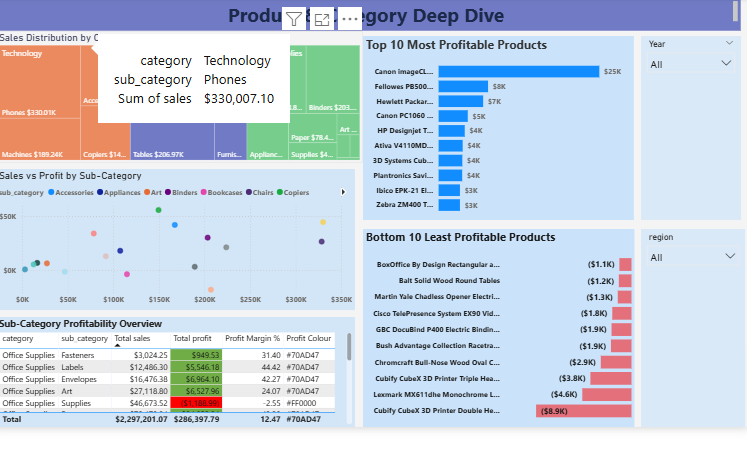

Layout of this report page (visuals, bound fields, positions):
{"tool":"powerbi","page":{"name":"Product & Category Analysis","canvas":[1280,720],"ordinal":1},"visuals":[{"type":"textbox","box":[13,0,1251.4,54.7],"z":0},{"type":"treemap","title":"Sales Distribution by Category & Sub-Category","fields":{"Group":["Superstore_cleaned.category"],"Details":["Superstore_cleaned.sub_category"],"Values":["Sum(Superstore_cleaned.sales)"]},"box":[13,54.7,616.3,221.8],"z":1000},{"type":"clusteredBarChart","title":"Top 10 Most Profitable Products","fields":{"Category":["Superstore_cleaned.product_name"],"Y":["Sum(Superstore_cleaned.profit)"]},"box":[629.9,63.8,455.2,309.1],"z":2000},{"type":"clusteredBarChart","title":"Bottom 10 Least Profitable Products","fields":{"Category":["Superstore_cleaned.product_name"],"Y":["Sum(Superstore_cleaned.profit)"]},"box":[629.3,387.4,456.5,332.6],"z":3000},{"type":"scatterChart","title":"Sales vs Profit by Sub-Category","fields":{"X":["Sum(Superstore_cleaned.sales)"],"Y":["Sum(Superstore_cleaned.profit)"],"Category":["Superstore_cleaned.category"],"Series":["Superstore_cleaned.sub_category"]},"box":[13.4,287.2,603,236.9],"z":4000},{"type":"tableEx","title":"Sub-Category Profitability Overview","fields":{"Values":["Superstore_cleaned.category","Superstore_cleaned.sub_category","Sum(Superstore_cleaned.sales)","Sum(Superstore_cleaned.profit)","Superstore_cleaned.Profit Margin %","Superstore_cleaned.Profit Colour"]},"box":[13.4,535.9,603,184.8],"z":4001},{"type":"slicer","fields":{"Values":["Superstore_cleaned.order_date.Variation.Date Hierarchy.Year"]},"box":[1096.9,63.8,168,309.1],"z":4002},{"type":"slicer","fields":{"Values":["Superstore_cleaned.region"]},"box":[1096.9,388,174.7,332.6],"z":4003}]}

Visuals, with their boxes on the page's 1280x720 design canvas (x1, y1, x2, y2). These are canvas units, not pixel positions in the 747x449 screenshot, which may show the page scaled, cropped or inside an application window:
textbox: (13,0,1264,55)
"Sales Distribution by Category & Sub-Category" treemap: (13,55,629,276)
"Top 10 Most Profitable Products" clusteredBarChart: (630,64,1085,373)
"Bottom 10 Least Profitable Products" clusteredBarChart: (629,387,1086,720)
"Sales vs Profit by Sub-Category" scatterChart: (13,287,616,524)
"Sub-Category Profitability Overview" tableEx: (13,536,616,721)
slicer - Superstore_cleaned.order_date.Variation.Date Hierarchy.Year: (1097,64,1265,373)
slicer - Superstore_cleaned.region: (1097,388,1272,721)
